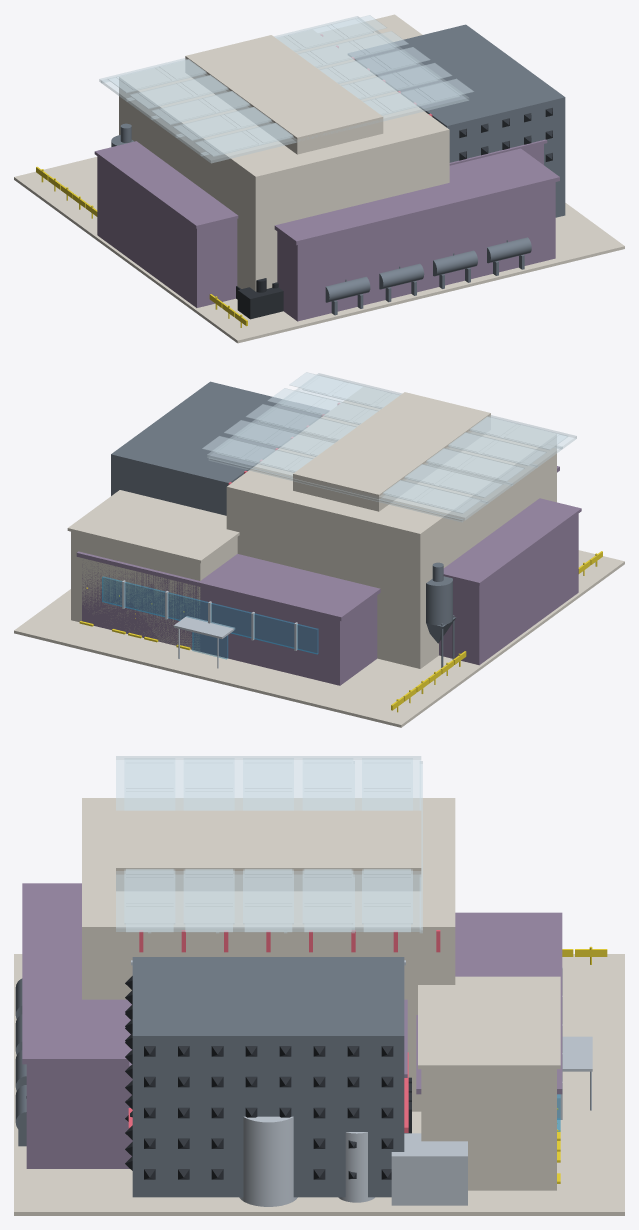
Rendered from hq_07_testing_l6.glb.
3 views of the same model, one above another, from view 1: azimuth 30°, elevation 25°; view 2: azimuth 150°, elevation 25°; view 3: azimuth 270°, elevation 25° (orthographic). The views are drawn at different scales.
Parts seen in each view (by area): view 1: GEO_Testing_Solar_Deluge_Hall_Shell, GEO_Testing_Fatigue_Cycle_Annex, GEO_Testing_Photovoltaic_Solar_Canopy, GEO_Testing_EMC_Faraday_Hall, GEO_Testing_Dust_Intrusion_Chamber, GEO_Testing_Foundation_Plinth, GEO_Testing_Pneumatic_Compressors, GEO_Testing_ADAS_Calibration_Bay, GEO_Testing_Hydraulic_Power_Unit, GEO_Testing_Safety_Guardrails, GEO_Testing_RF_Absorber_Cones, GEO_Testing_Salt_Spray_Bay; view 2: GEO_Testing_Solar_Deluge_Hall_Shell, GEO_Testing_Reception_Halls, GEO_Testing_Photovoltaic_Solar_Canopy, GEO_Testing_Foundation_Plinth, GEO_Testing_EMC_Faraday_Hall, GEO_Testing_ADAS_Calibration_Bay, GEO_Testing_Dust_Intrusion_Chamber, GEO_Testing_Reception_Glass, GEO_Testing_Dust_Cyclone_Separator, GEO_Testing_Reception_Mullions, GEO_Testing_Safety_Guardrails; view 3: GEO_Testing_Solar_Deluge_Hall_Shell, GEO_Testing_EMC_Faraday_Hall, GEO_Testing_Photovoltaic_Solar_Canopy, GEO_Testing_Foundation_Plinth, GEO_Testing_ADAS_Calibration_Bay, GEO_Testing_Fatigue_Cycle_Annex, GEO_Testing_Reception_Halls, GEO_Testing_Brine_Storage_Tanks, GEO_Testing_RF_Absorber_Cones, GEO_Testing_EMC_Control_Cabin, GEO_Testing_Pneumatic_Compressors, GEO_Testing_Reception_Mullions (+1 smaller).
Part boxes in pixels (<box>): GEO_Testing_Solar_Deluge_Hall_Shell: <box>119,30,449,291</box>; GEO_Testing_Fatigue_Cycle_Annex: <box>274,148,559,321</box>; GEO_Testing_Photovoltaic_Solar_Canopy: <box>99,15,473,163</box>; GEO_Testing_EMC_Faraday_Hall: <box>348,24,565,217</box>; GEO_Testing_Dust_Intrusion_Chamber: <box>94,141,238,307</box>; GEO_Testing_Foundation_Plinth: <box>14,157,624,343</box>; GEO_Testing_Pneumatic_Compressors: <box>325,237,531,315</box>; GEO_Testing_ADAS_Calibration_Bay: <box>319,14,422,53</box>; GEO_Testing_Hydraulic_Power_Unit: <box>236,278,283,319</box>; GEO_Testing_Safety_Guardrails: <box>36,166,247,327</box>; GEO_Testing_RF_Absorber_Cones: <box>459,107,552,161</box>; GEO_Testing_Salt_Spray_Bay: <box>449,139,547,165</box>; GEO_Testing_Solar_Deluge_Hall_Shell: <box>226,387,556,668</box>; GEO_Testing_Reception_Halls: <box>76,551,380,685</box>; GEO_Testing_Photovoltaic_Solar_Canopy: <box>202,372,576,522</box>; GEO_Testing_Foundation_Plinth: <box>14,550,624,727</box>; GEO_Testing_EMC_Faraday_Hall: <box>111,381,328,515</box>; GEO_Testing_ADAS_Calibration_Bay: <box>67,490,239,651</box>; GEO_Testing_Dust_Intrusion_Chamber: <box>439,498,581,665</box>; GEO_Testing_Reception_Glass: <box>102,576,318,659</box>; GEO_Testing_Dust_Cyclone_Separator: <box>426,562,455,667</box>; GEO_Testing_Reception_Mullions: <box>122,580,297,668</box>; GEO_Testing_Safety_Guardrails: <box>391,551,602,712</box>; GEO_Testing_Solar_Deluge_Hall_Shell: <box>82,798,455,1111</box>; GEO_Testing_EMC_Faraday_Hall: <box>132,957,404,1197</box>; GEO_Testing_Photovoltaic_Solar_Canopy: <box>116,756,422,933</box>; GEO_Testing_Foundation_Plinth: <box>14,954,624,1215</box>; GEO_Testing_ADAS_Calibration_Bay: <box>418,976,560,1190</box>; GEO_Testing_Fatigue_Cycle_Annex: <box>22,883,132,1168</box>; GEO_Testing_Reception_Halls: <box>416,912,562,1094</box>; GEO_Testing_Brine_Storage_Tanks: <box>239,1116,374,1206</box>; GEO_Testing_RF_Absorber_Cones: <box>125,976,393,1179</box>; GEO_Testing_EMC_Control_Cabin: <box>391,1133,467,1205</box>; GEO_Testing_Pneumatic_Compressors: <box>15,978,26,1146</box>; GEO_Testing_Reception_Mullions: <box>557,967,592,1119</box>.
Size of what is drawn, in the model's own units: 36 by 13.75 by 36.
